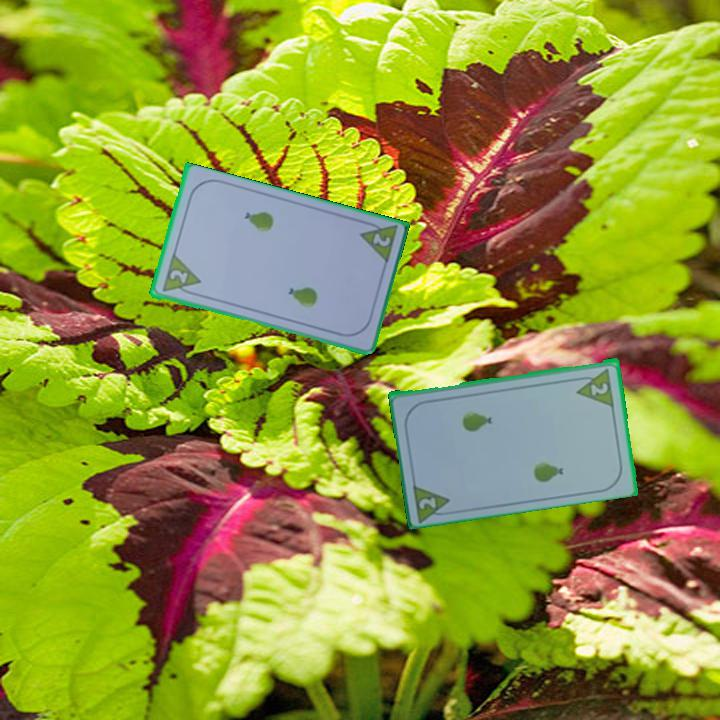2p: (369, 230, 394, 250), (166, 266, 190, 286), (587, 379, 611, 398), (415, 493, 439, 512)
